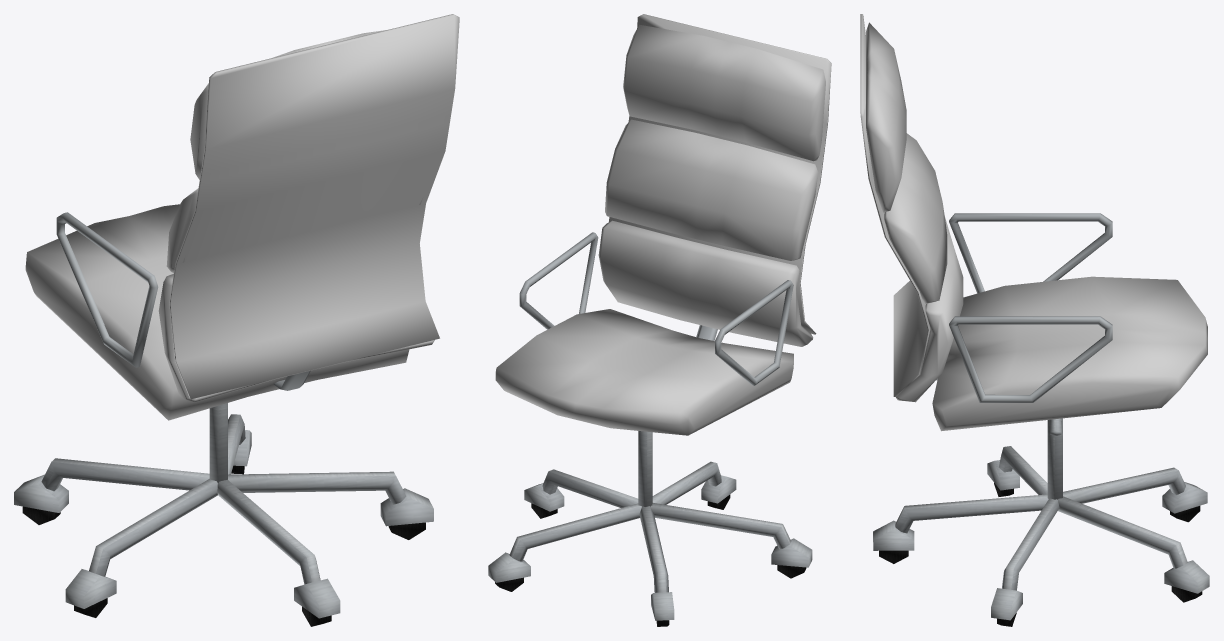
Rendered from SHC QuickOffice Office Chair.fbx.
The picture shows the model from 3 angles, left to right: view 1: azimuth 30°, elevation 25°; view 2: azimuth 150°, elevation 25°; view 3: azimuth 270°, elevation 25°; orthographic projection. The views are drawn at different scales.
Visible parts, largest first — view 1: Component_75_1, Component_83_1, Component_76_2, Component_78_5, Component_78_2, Component_78_3, Component_78_1, Component_77_5, Component_77_2, Component_77_3, Component_77_1, Component_80_1 (+1 smaller); view 2: Component_83_1, Component_75_1, Component_78_3, Component_78_4, Component_76_2, Component_76_1, Component_78_5, Component_78_2, Component_78_1, Component_77_3, Component_80_1, Component_77_4 (+3 smaller); view 3: Component_83_1, Component_75_1, Component_76_1, Component_76_2, Component_78_1, Component_78_4, Component_78_2, Component_78_5, Component_77_4, Component_77_1, Component_77_2, Component_80_1 (+3 smaller).
Boxes of the visible parts, left/top/right/bottom form: Component_75_1: left=169, top=14, right=459, bottom=399; Component_83_1: left=25, top=30, right=434, bottom=420; Component_76_2: left=56, top=212, right=158, bottom=367; Component_78_5: left=228, top=471, right=406, bottom=504; Component_78_2: left=41, top=458, right=209, bottom=491; Component_78_3: left=89, top=479, right=217, bottom=576; Component_78_1: left=217, top=479, right=320, bottom=584; Component_77_5: left=380, top=488, right=433, bottom=539; Component_77_2: left=14, top=474, right=68, bottom=524; Component_77_3: left=65, top=569, right=116, bottom=617; Component_77_1: left=294, top=578, right=340, bottom=626; Component_80_1: left=209, top=403, right=227, bottom=482; Component_83_1: left=495, top=24, right=825, bottom=435; Component_75_1: left=608, top=14, right=831, bottom=334; Component_78_3: left=650, top=503, right=791, bottom=548; Component_78_4: left=509, top=503, right=641, bottom=561; Component_76_2: left=715, top=280, right=793, bottom=385; Component_76_1: left=519, top=232, right=598, bottom=329; Component_78_5: left=542, top=469, right=638, bottom=507; Component_78_2: left=639, top=506, right=668, bottom=592; Component_78_1: left=652, top=461, right=721, bottom=504; Component_77_3: left=771, top=538, right=812, bottom=578; Component_80_1: left=638, top=431, right=652, bottom=506; Component_77_4: left=488, top=552, right=530, bottom=591; Component_83_1: left=866, top=22, right=1207, bottom=431; Component_75_1: left=860, top=14, right=930, bottom=396; Component_76_1: left=949, top=316, right=1112, bottom=402; Component_76_2: left=949, top=213, right=1112, bottom=293; Component_78_1: left=895, top=494, right=1048, bottom=533; Component_78_4: left=1058, top=496, right=1187, bottom=568; Component_78_2: left=1063, top=467, right=1185, bottom=503; Component_78_5: left=1002, top=498, right=1059, bottom=590; Component_77_4: left=1164, top=560, right=1209, bottom=602; Component_77_1: left=873, top=520, right=914, bottom=563; Component_77_2: left=1162, top=482, right=1207, bottom=522; Component_80_1: left=1047, top=418, right=1062, bottom=499.
Size of what is drawn, in the model's own units: 0.7086 by 1.11 by 0.7021.
